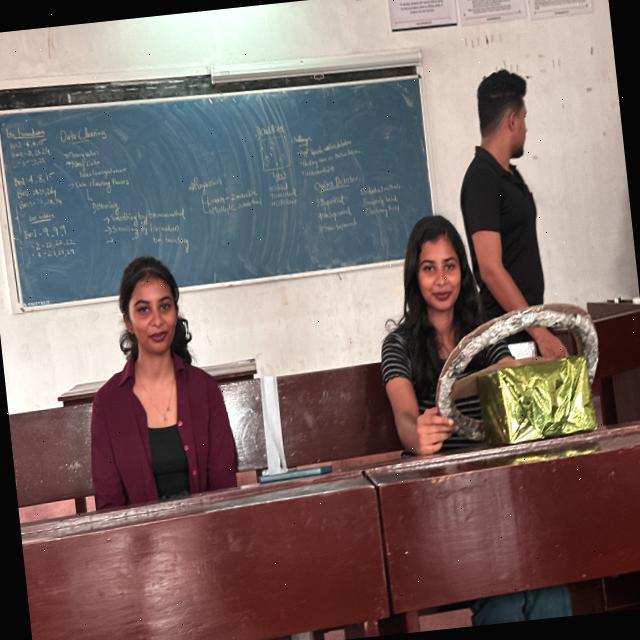Helmet: (80, 321, 274, 563), (378, 288, 562, 508)
